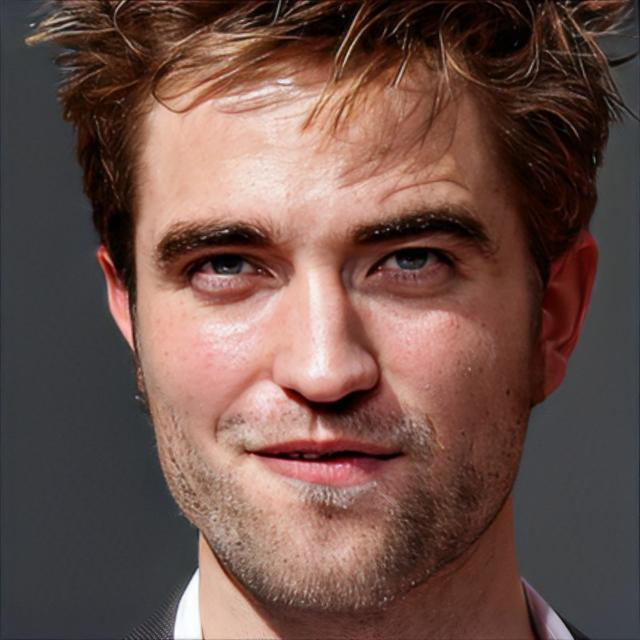content: (133, 39, 538, 615)
